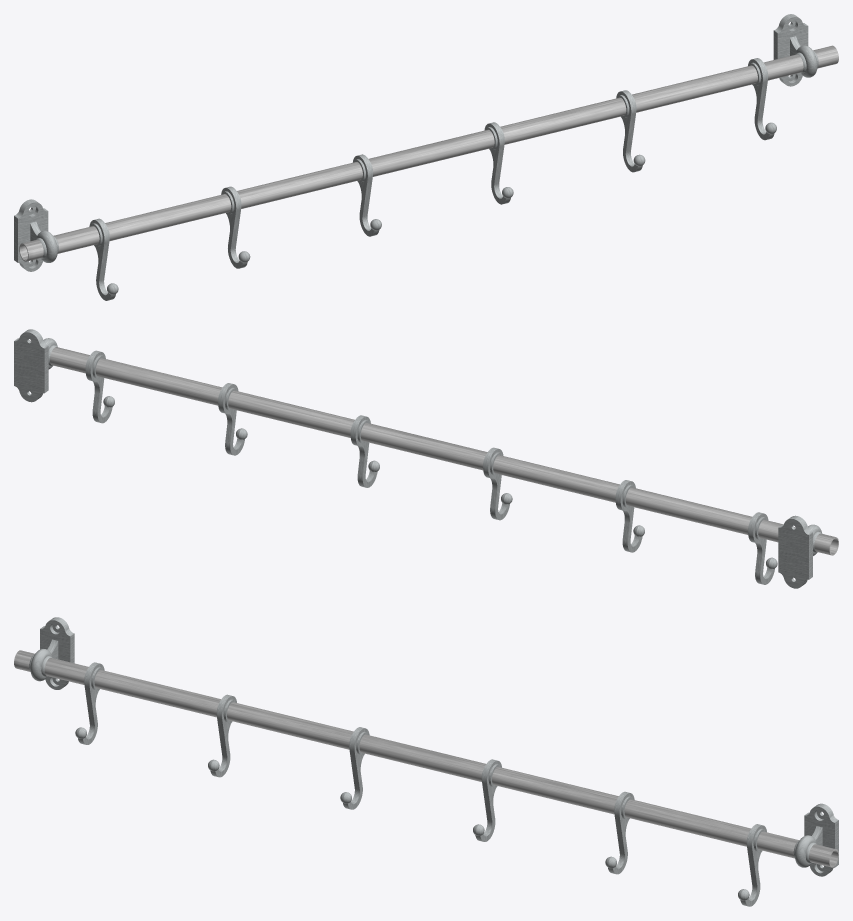
Rendered from 048 - stand divari ikea estil.glb.
The picture shows the model from 3 angles, top to bottom: view 1: azimuth 30°, elevation 25°; view 2: azimuth 150°, elevation 25°; view 3: azimuth 330°, elevation 25°; orthographic projection.
Visible parts, largest first — view 1: Group#18 [53249], Group#7 [24744] (×6), Group#2 [24732], Group#182 [24757]; view 2: Group#18 [53249], Group#7 [24744] (×6), Group#2 [24732], Group#182 [24757]; view 3: Group#18 [53249], Group#7 [24744] (×6), Group#182 [24757], Group#2 [24732].
Part boxes in pixels (x1,y1,x2,y2): Group#18 [53249]: [19, 45, 838, 261]; Group#7 [24744] (×6): [89, 58, 774, 300]; Group#2 [24732]: [14, 199, 48, 271]; Group#182 [24757]: [773, 14, 808, 86]; Group#18 [53249]: [29, 340, 838, 555]; Group#7 [24744] (×6): [85, 350, 774, 584]; Group#2 [24732]: [778, 515, 812, 588]; Group#182 [24757]: [14, 329, 48, 402]; Group#18 [53249]: [14, 650, 838, 867]; Group#7 [24744] (×6): [78, 662, 766, 906]; Group#182 [24757]: [804, 803, 838, 876]; Group#2 [24732]: [40, 617, 74, 689].
Bounding box in the file's own units: 0.8 × 0.0891 × 0.0578.
Materials: 3 (3 with a texture image).
